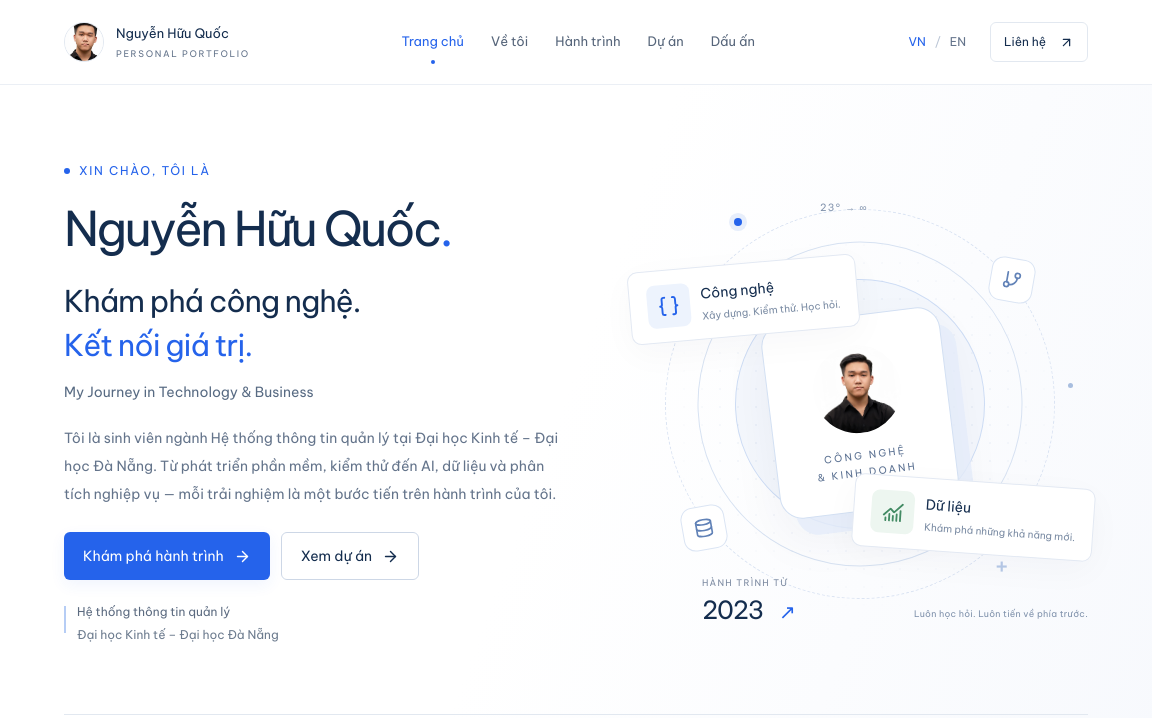
Test: supporting pages and contact › offers a direct contact alternative when clipboard access is denied
Click the button named "English". click: (958, 42)
box: [948, 22, 968, 62]
(page scrolled)
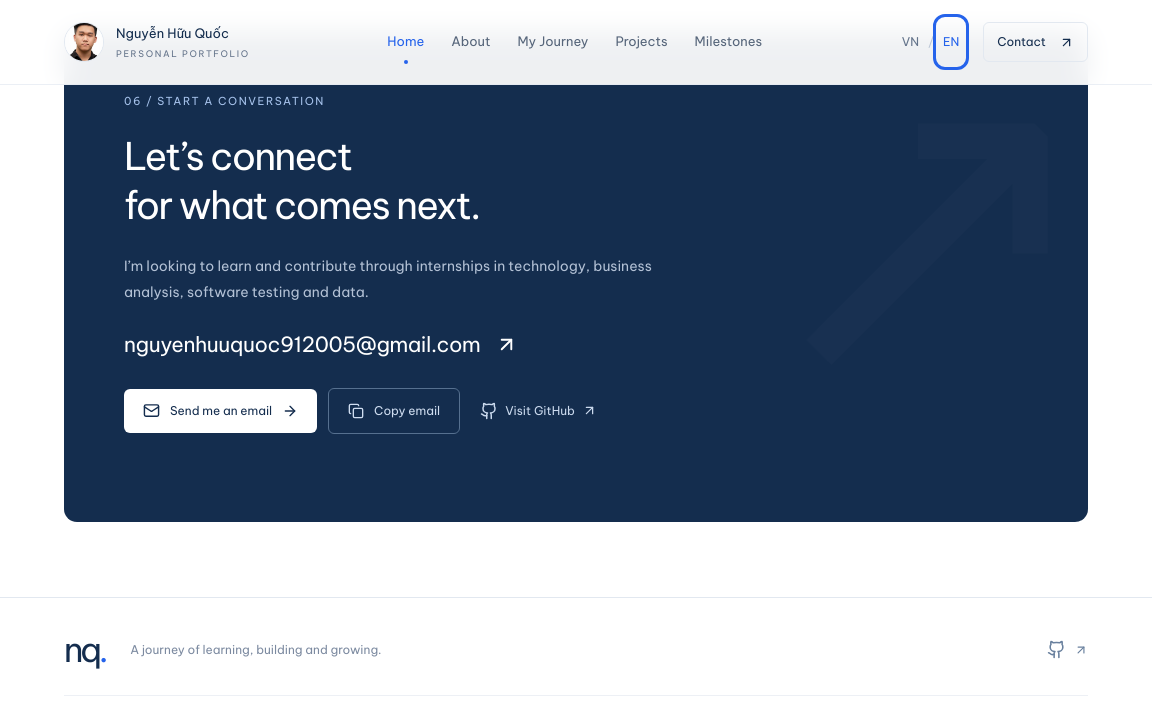
Click the button "Copy email". click: (394, 411)
box: [328, 388, 460, 434]
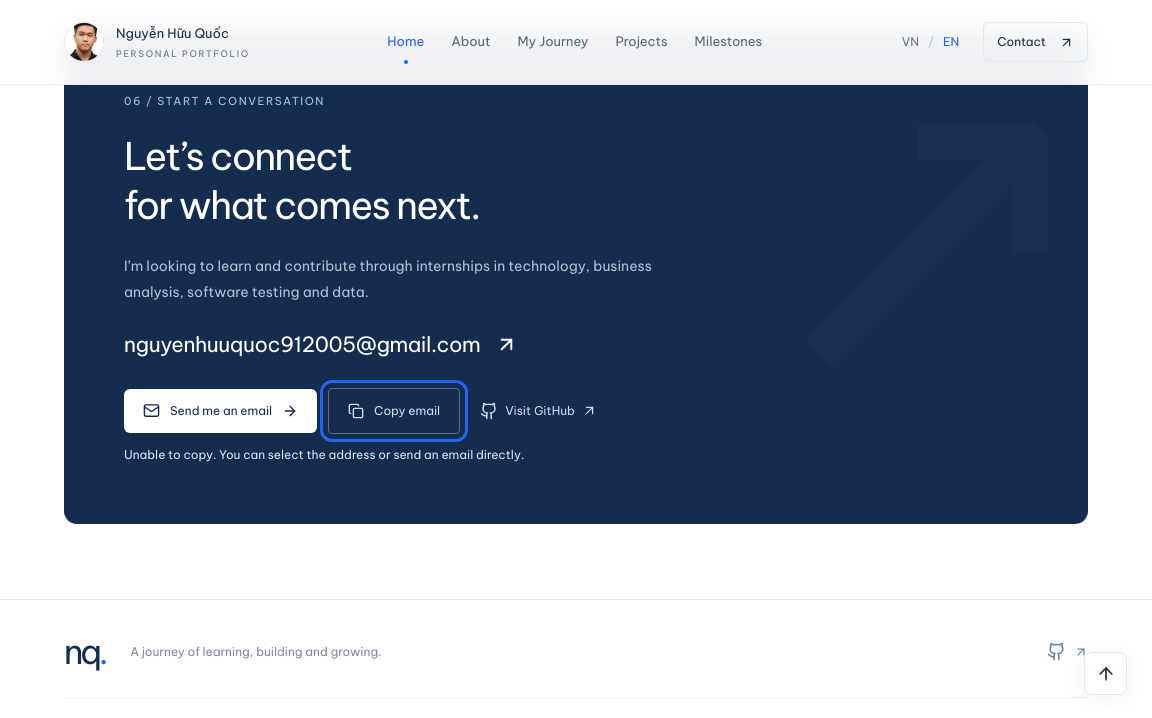
Now the message shows "Unable to copy.", box [124, 446, 524, 462]
